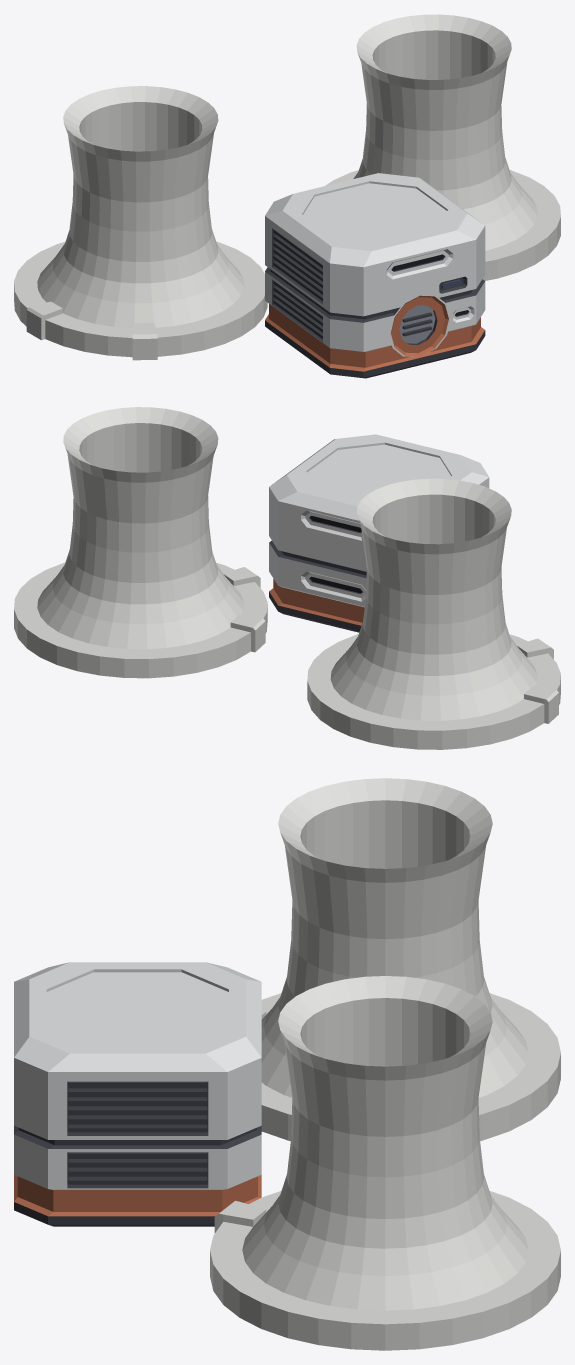
The model's file is plant_nuclear.glb.
3 views of the same model, one above another, from view 1: azimuth 30°, elevation 25°; view 2: azimuth 150°, elevation 25°; view 3: azimuth 270°, elevation 25° (orthographic). The views are drawn at different scales.
Visible parts, largest first — view 1: cooling_tower (×2), reactor-hull; view 2: cooling_tower (×2), reactor-hull; view 3: cooling_tower (×2), reactor-hull.
Boxes of the visible parts, left/top/right/bottom form: cooling_tower (×2): left=14, top=14, right=560, bottom=360; reactor-hull: left=265, top=173, right=485, bottom=378; cooling_tower (×2): left=14, top=407, right=560, bottom=749; reactor-hull: left=269, top=434, right=489, bottom=632; cooling_tower (×2): left=210, top=778, right=560, bottom=1350; reactor-hull: left=14, top=962, right=261, bottom=1226.
Size of the model in its own units: 120 by 40.95 by 79.51.
